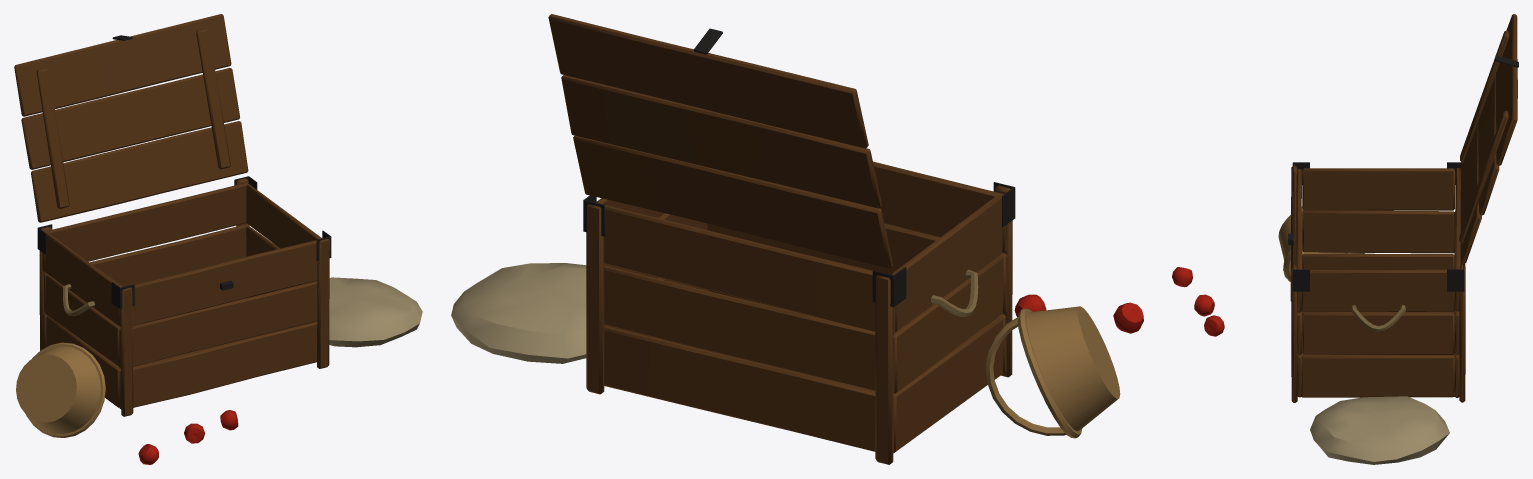
The model's file is vorratskiste_kaputt.glb.
The picture shows the model from 3 angles, left to right: view 1: azimuth 30°, elevation 25°; view 2: azimuth 150°, elevation 25°; view 3: azimuth 270°, elevation 25°; orthographic projection. The views are drawn at different scales.
Visible parts, largest first — view 1: vorratskiste_kaputt; view 2: vorratskiste_kaputt; view 3: vorratskiste_kaputt.
Part boxes in pixels (<box>): vorratskiste_kaputt: <box>14,14,422,464</box>; vorratskiste_kaputt: <box>451,14,1143,464</box>; vorratskiste_kaputt: <box>1172,14,1518,464</box>.
Size of the model in its own units: 1.84 by 1.25 by 1.27.
